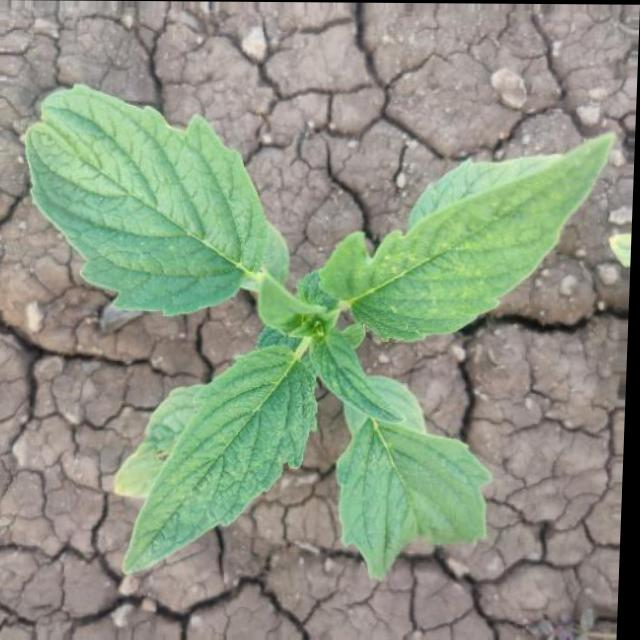crop: (6, 54, 622, 581)
